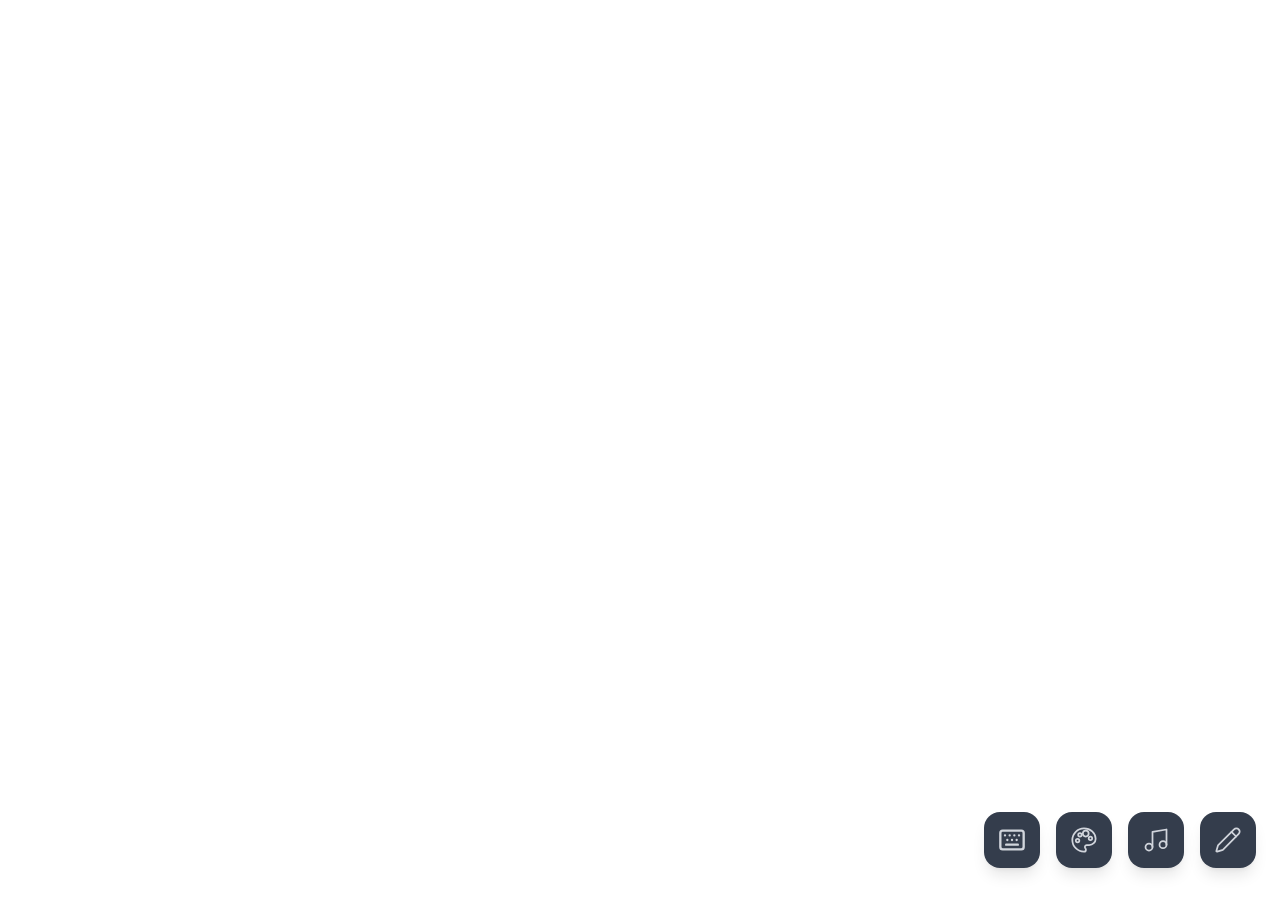
Test: FloatingActions › only one panel open at a time
Click the button named "Theme" at [1084, 840], box [1056,812,1112,868]
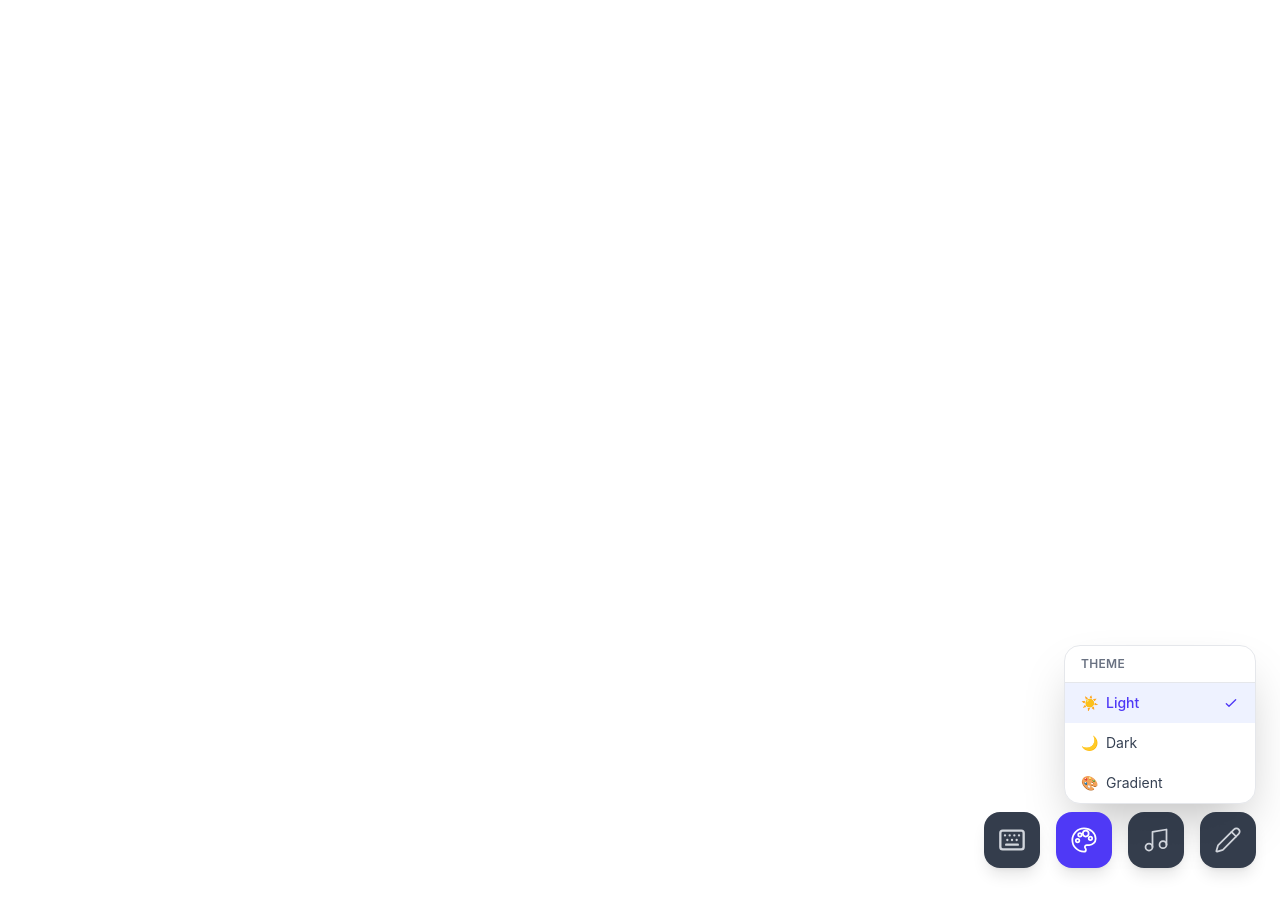
Check: the button named "Theme" is expanded, box [1056,812,1112,868]
Click the button named "Music" at [1156, 840], box [1128,812,1184,868]
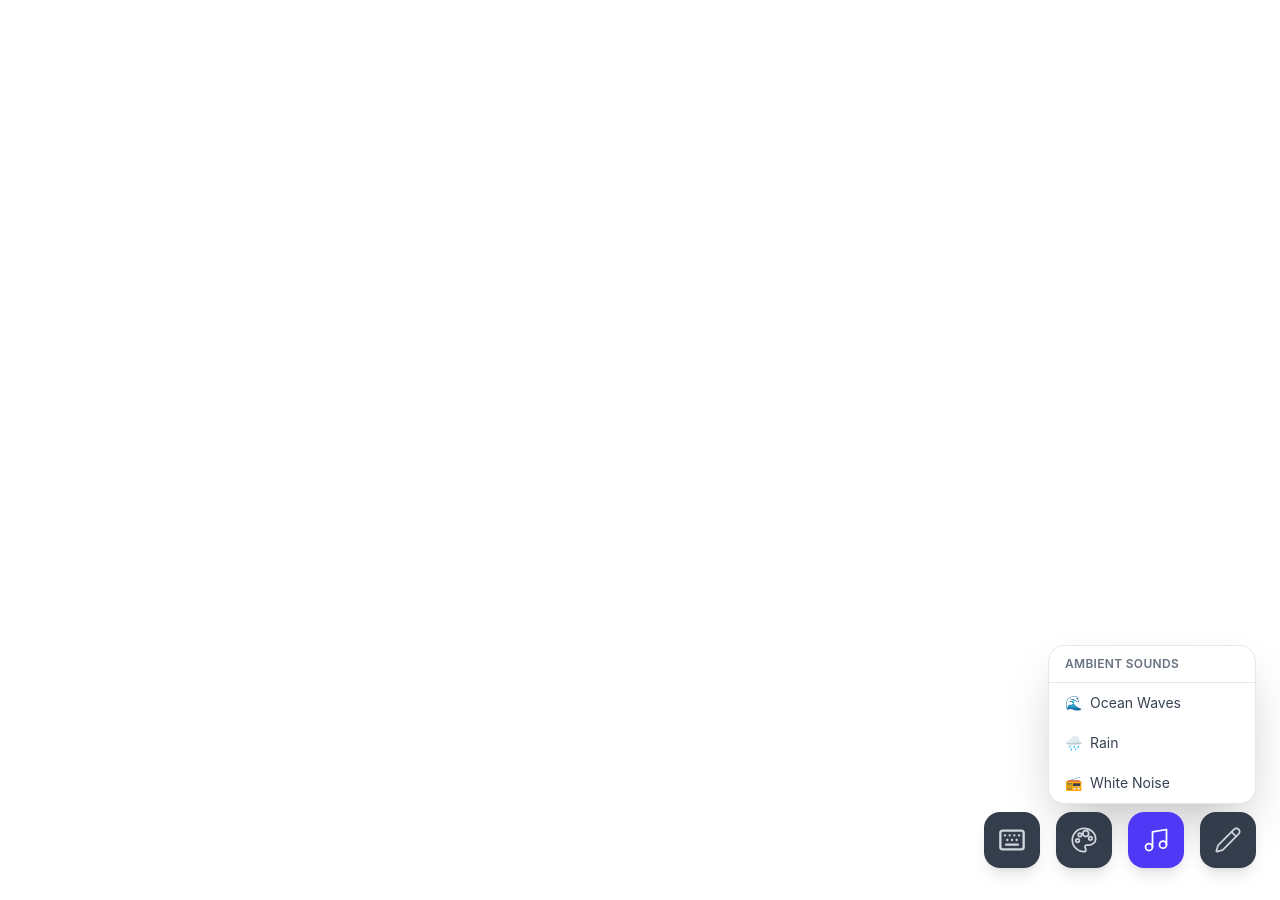
Check: the button named "Theme" is collapsed, box [1056,812,1112,868]
Check: the button named "Music" is expanded, box [1128,812,1184,868]
